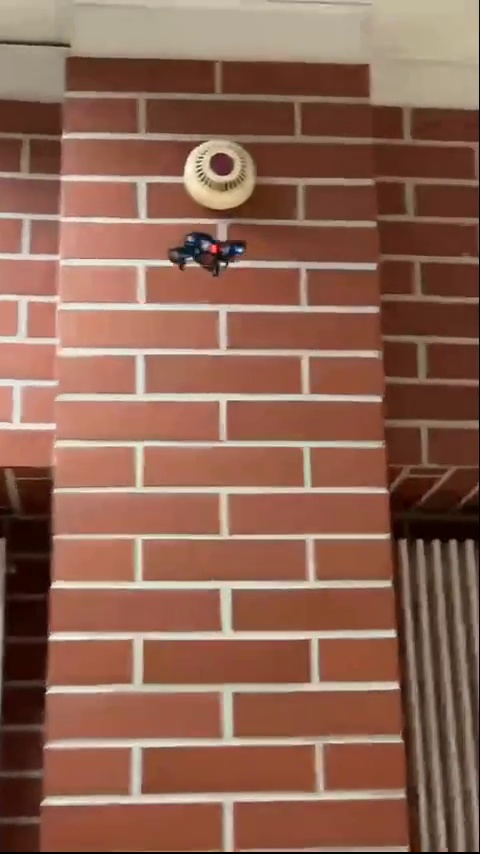drone: (164, 227, 242, 274)
